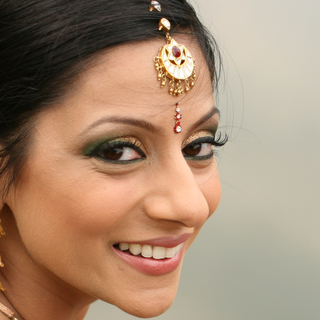eye: (92, 139, 146, 166), (185, 131, 226, 161)
